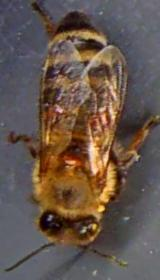varroa_mite: (83, 104, 110, 132), (42, 101, 66, 126)
